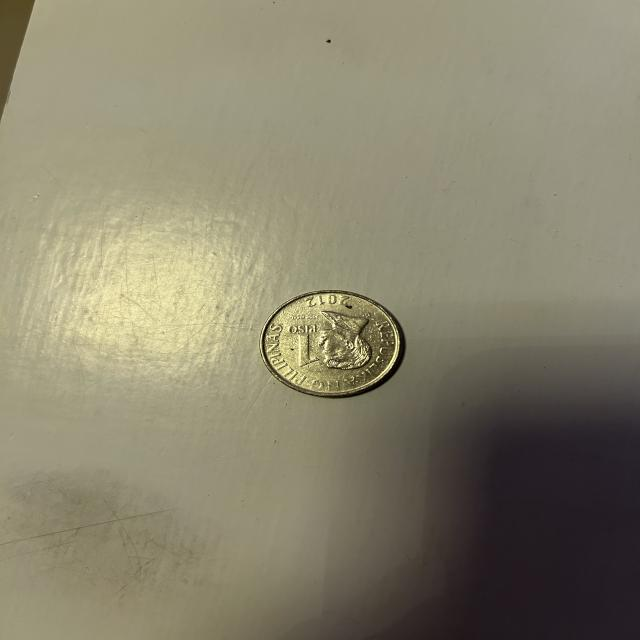1_Old_Front: (284, 325, 327, 369)
